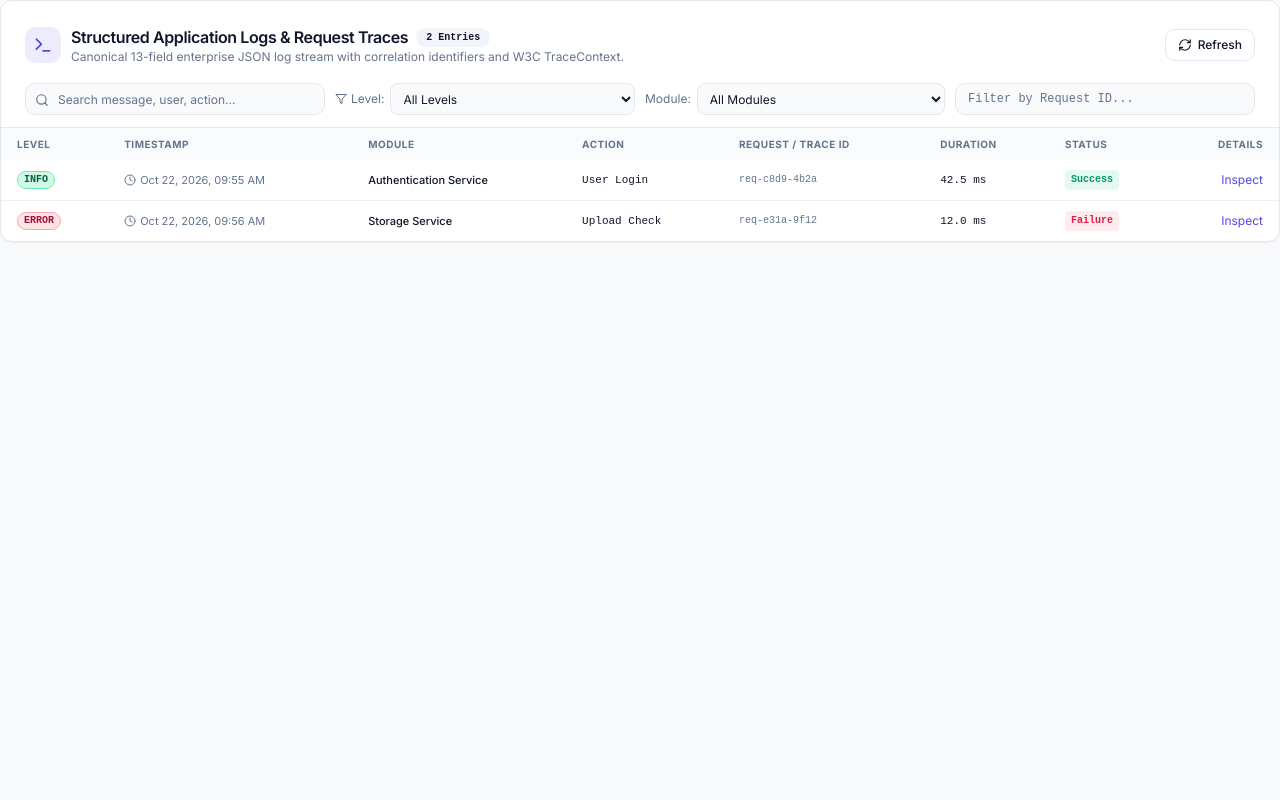
it: Phase 1.9 System Observability & Monitoring UI Components › LogViewer Component › opens detailed canonical 13-field log inspector modal on row click
This screenshot has width=1280, height=800.
Step 1. Click the button with test id "inspect-log-log-001" → (1242, 180), box [1221, 172, 1263, 188]
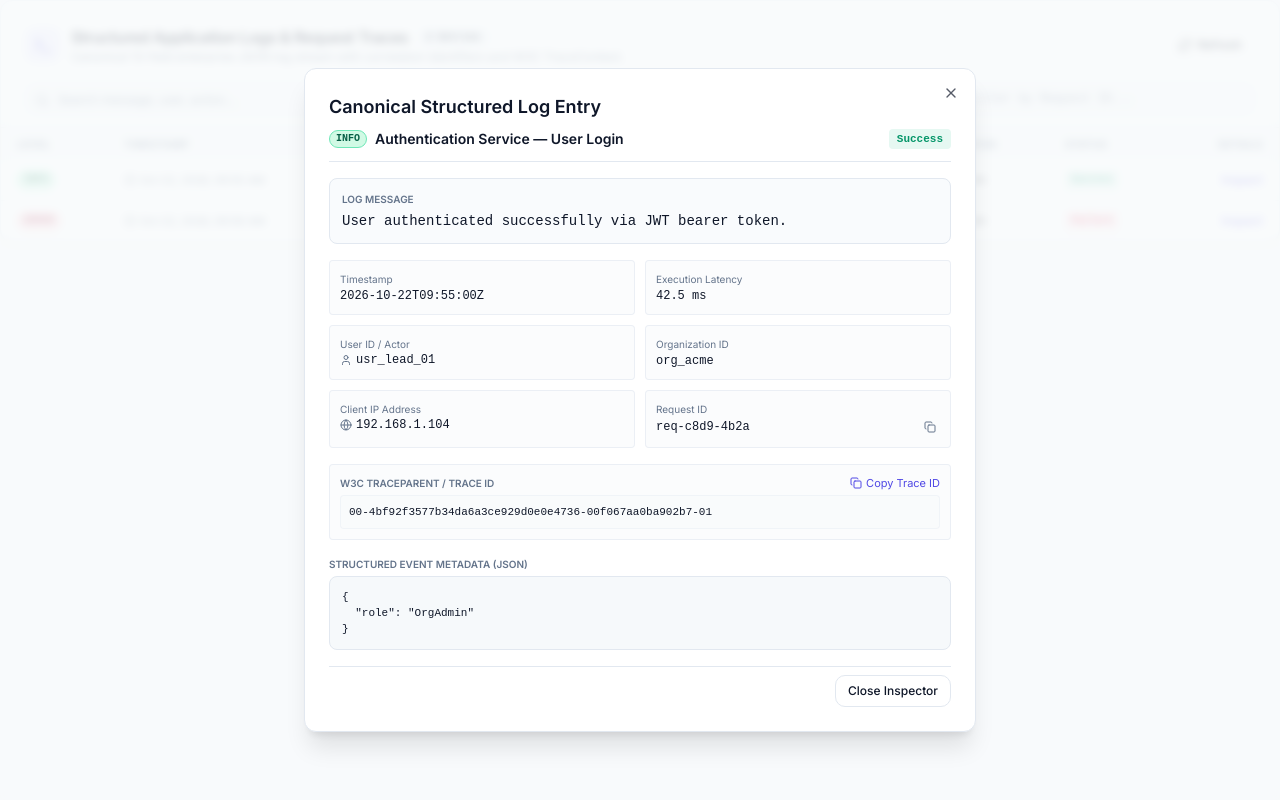
Check: the heading "Canonical Structured Log Entry" is shown, box [329, 96, 601, 117]
Check: the text "00-4bf92f3577b34da6a3ce929d0e0e4736-00f067aa0ba902b7-01" is shown, box [340, 495, 940, 529]
Check: the text "Copy Trace ID" is shown, box [866, 475, 940, 491]
